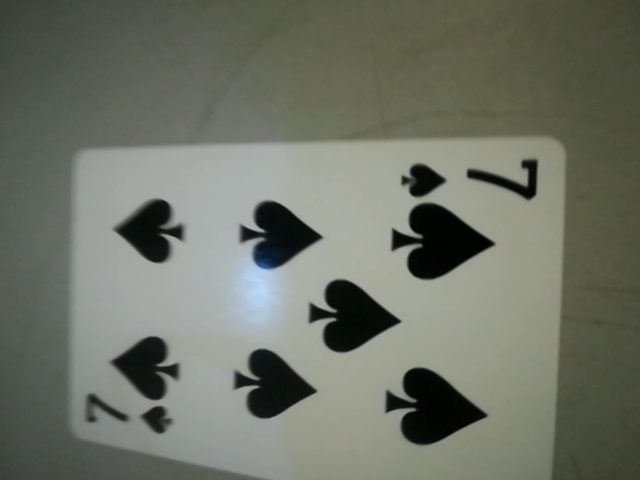ht 7: (398, 153, 553, 211)
